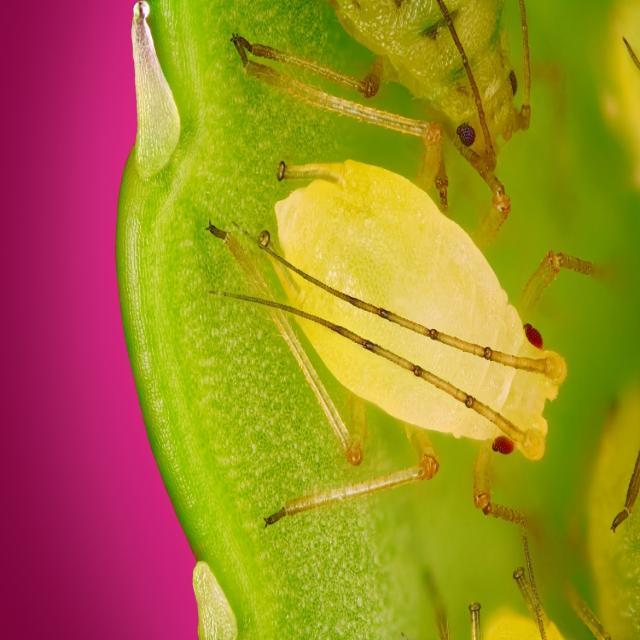Aphids: (196, 34, 620, 638)
